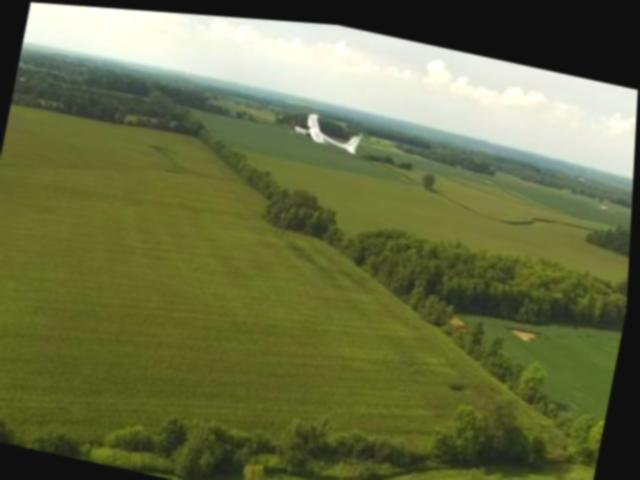uav: (284, 98, 372, 159)
